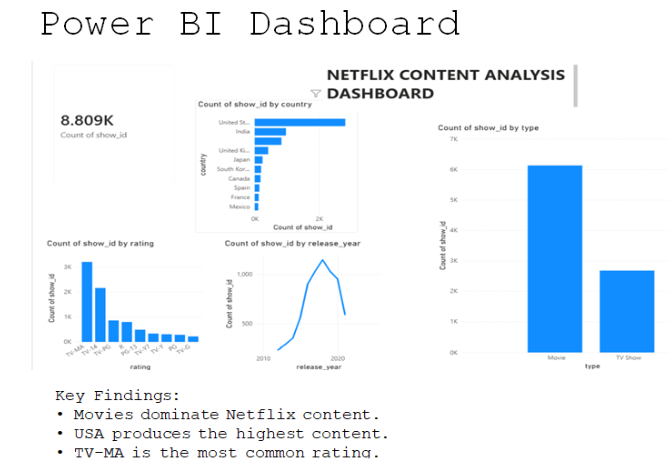

The page's visual inventory and layout, read from the dashboard file:
{"tool":"powerbi","page":{"name":"Page 1","canvas":[1280,720],"ordinal":0},"visuals":[{"type":"clusteredColumnChart","fields":{"Y":["CountNonNull(cleaned_dataset.show_id)"],"Category":["cleaned_dataset.type"]},"box":[744.7,160,535.1,557.7],"z":10000},{"type":"clusteredBarChart","fields":{"Y":["CountNonNull(cleaned_dataset.show_id)"],"Category":["cleaned_dataset.country"]},"box":[300.8,107,299.7,299.7],"z":11000},{"type":"clusteredColumnChart","fields":{"Category":["cleaned_dataset.rating"],"Y":["CountNonNull(cleaned_dataset.show_id)"]},"box":[21.4,420.2,299.7,299.7],"z":12000},{"type":"lineChart","fields":{"Category":["cleaned_dataset.release_year"],"Y":["CountNonNull(cleaned_dataset.show_id)"]},"box":[350.4,420.2,299.7,299.7],"z":12001},{"type":"textbox","box":[538.5,22.5,474.3,109.3],"z":12002},{"type":"cardVisual","fields":{"Data":["CountNonNull(cleaned_dataset.show_id)"]},"box":[21,11,258,300],"z":12003}]}

Visuals, with their boxes on the page's 1280x720 design canvas (x1, y1, x2, y2). These are canvas units, not pixel positions in the 669x459 screenshot, which may show the page scaled, cropped or inside an application window:
clusteredColumnChart - CountNonNull(cleaned_dataset.show_id) x cleaned_dataset.type: 745 160 1280 718
clusteredBarChart - CountNonNull(cleaned_dataset.show_id) x cleaned_dataset.country: 301 107 600 407
clusteredColumnChart - cleaned_dataset.rating x CountNonNull(cleaned_dataset.show_id): 21 420 321 720
lineChart - cleaned_dataset.release_year x CountNonNull(cleaned_dataset.show_id): 350 420 650 720
textbox: 538 22 1013 132
cardVisual - CountNonNull(cleaned_dataset.show_id): 21 11 279 311
